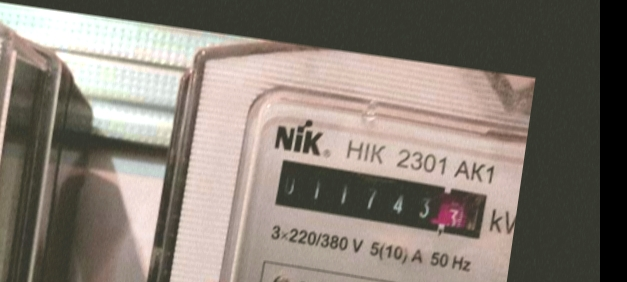0: (279, 168, 297, 197)
1: (306, 172, 324, 202), (333, 177, 350, 206)
3: (413, 192, 431, 221), (441, 206, 459, 229)
4: (388, 190, 405, 216)
7: (360, 184, 378, 210)
screen: (263, 153, 496, 248)
